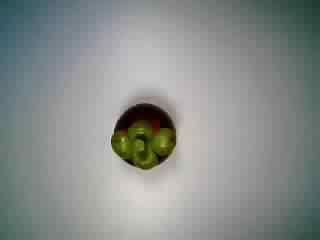mangosteen: (104, 100, 178, 172)
